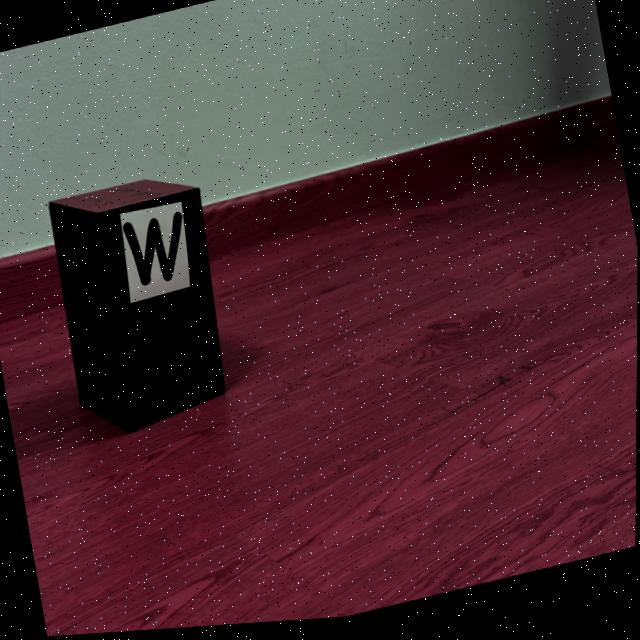W: (123, 214, 182, 287)
